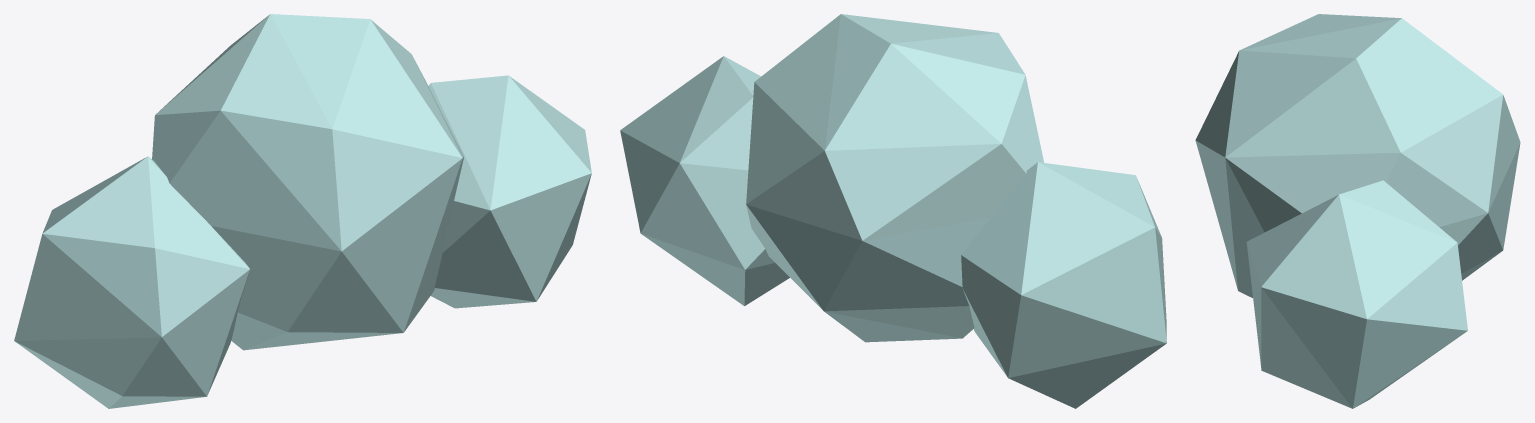
Rendered from new-cloud.glb.
The picture shows the model from 3 angles, left to right: view 1: azimuth 30°, elevation 25°; view 2: azimuth 150°, elevation 25°; view 3: azimuth 270°, elevation 25°; orthographic projection. The views are drawn at different scales.
Parts seen in each view (by area): view 1: cloud 15; view 2: cloud 15; view 3: cloud 15.
Part boxes in pixels (x1,y1,x2,y2): cloud 15: (14,14,591,408); cloud 15: (620,14,1166,408); cloud 15: (1195,14,1520,408).
Bounding box in the file's own units: 2.49 × 1.44 × 1.31.
